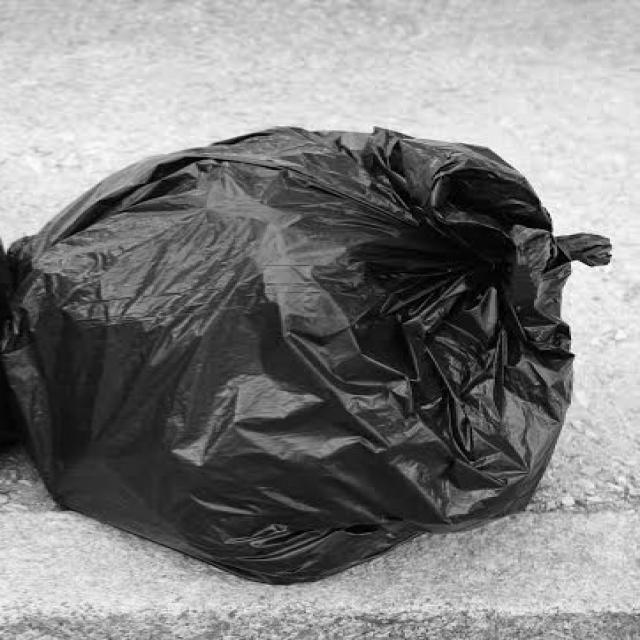plastic bag: (1, 12, 640, 610)
